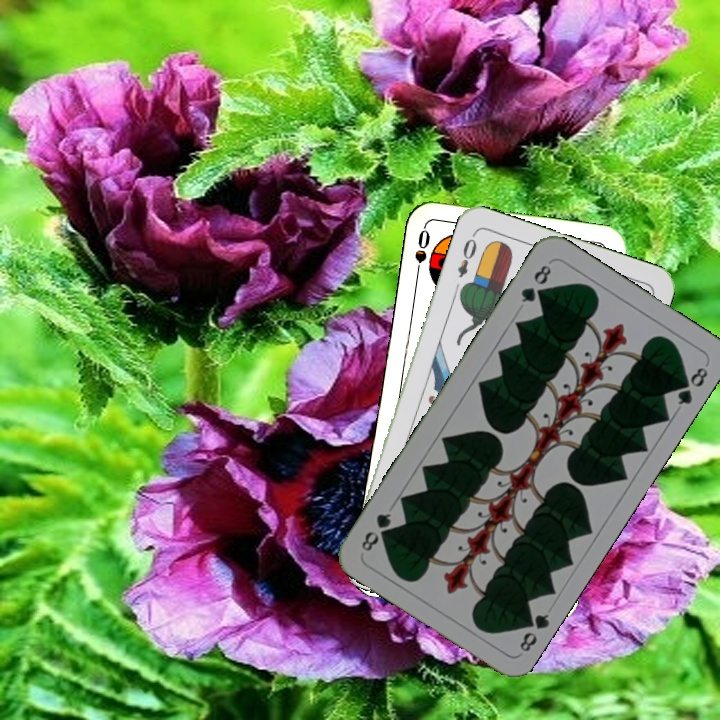EO: (453, 229, 480, 280)
G8: (515, 608, 552, 655), (517, 260, 554, 305)
SO: (410, 224, 433, 283)
